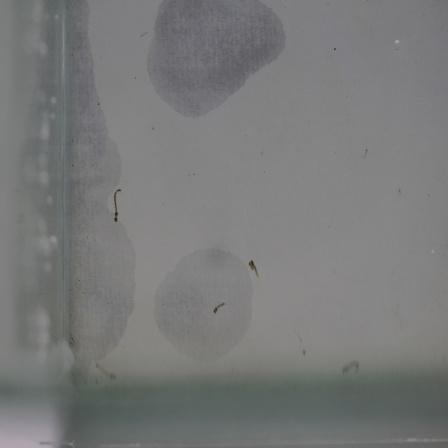Jentik-Nyamuk: (110, 186, 125, 228), (206, 298, 230, 319), (244, 256, 265, 279)
